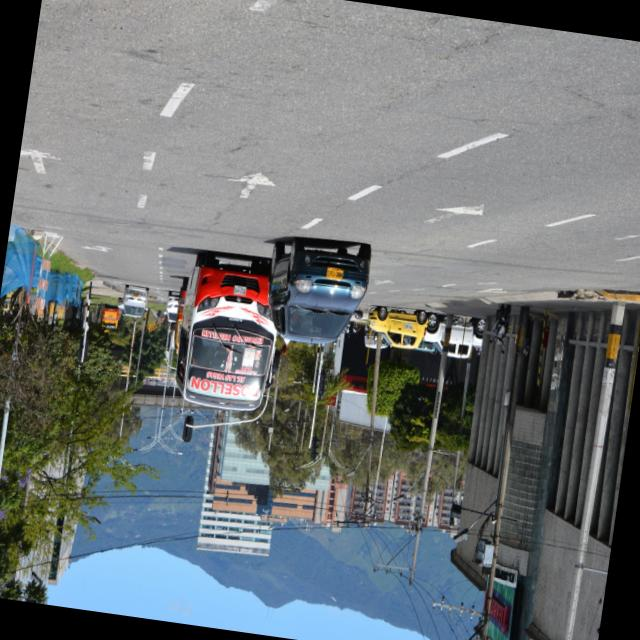bus: (172, 254, 290, 416), (169, 276, 189, 351), (100, 308, 119, 336)
